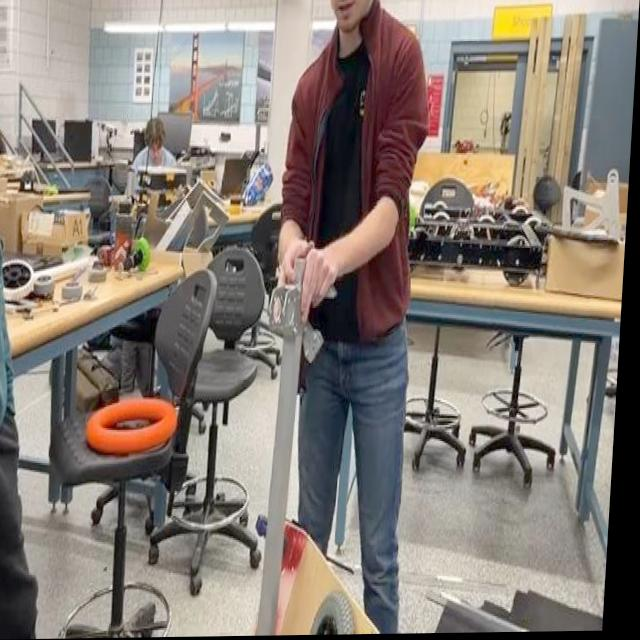note: (87, 392, 187, 461)
